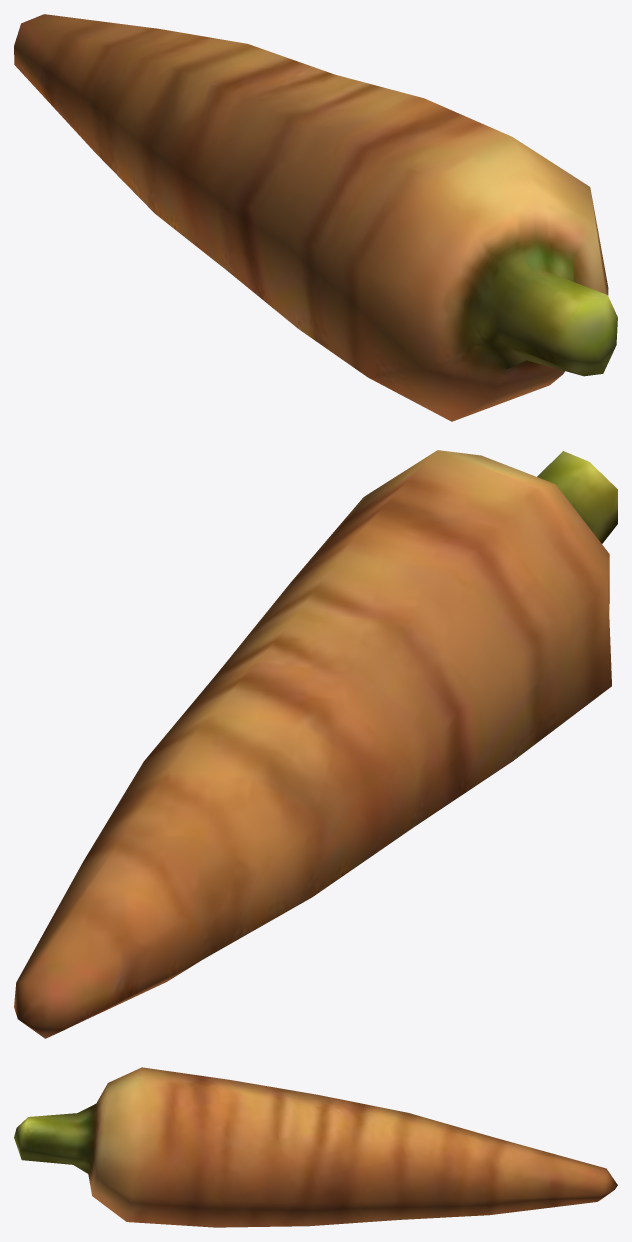
File: SM_carrot_00.gltf
The picture shows the model from 3 angles, top to bottom: view 1: azimuth 30°, elevation 25°; view 2: azimuth 150°, elevation 25°; view 3: azimuth 270°, elevation 25°; orthographic projection. The views are drawn at different scales.
Parts seen in each view (by area): view 1: SM_carrot_00; view 2: SM_carrot_00; view 3: SM_carrot_00.
Part boxes in pixels (<box>): SM_carrot_00: <box>14,14,617,421</box>; SM_carrot_00: <box>14,450,617,1038</box>; SM_carrot_00: <box>14,1067,617,1227</box>.
Size of the model in its own units: 0.1127 by 0.118 by 0.4494.
Materials: 1 (1 with a texture image).
